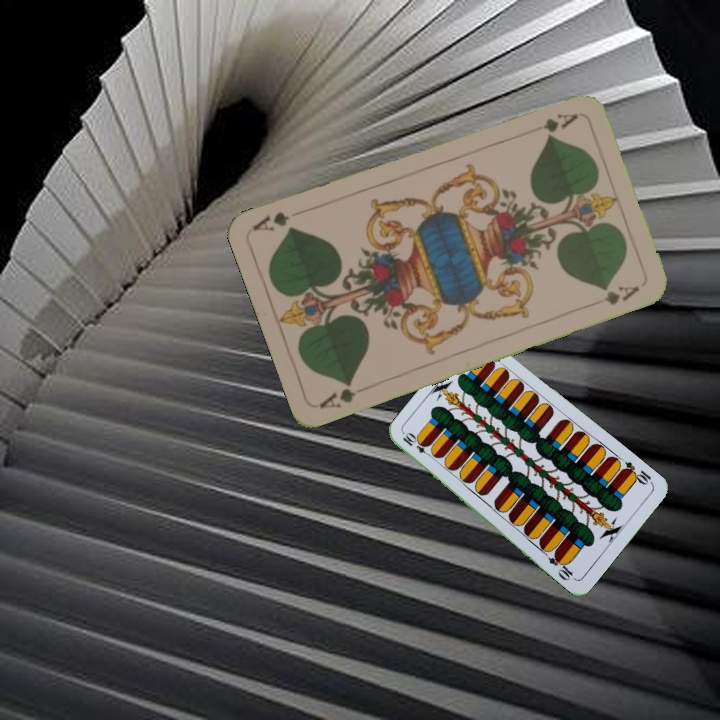E10: (618, 457, 655, 488), (399, 429, 435, 460)
GA: (523, 109, 581, 135), (315, 377, 359, 411)
